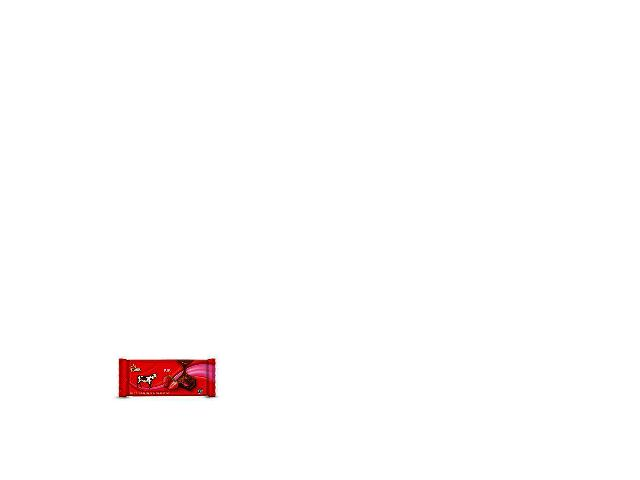chocolate: (111, 359, 215, 404)
